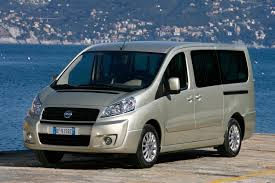car: (23, 41, 254, 164)
